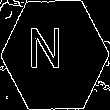N_S: (37, 29, 73, 81)
